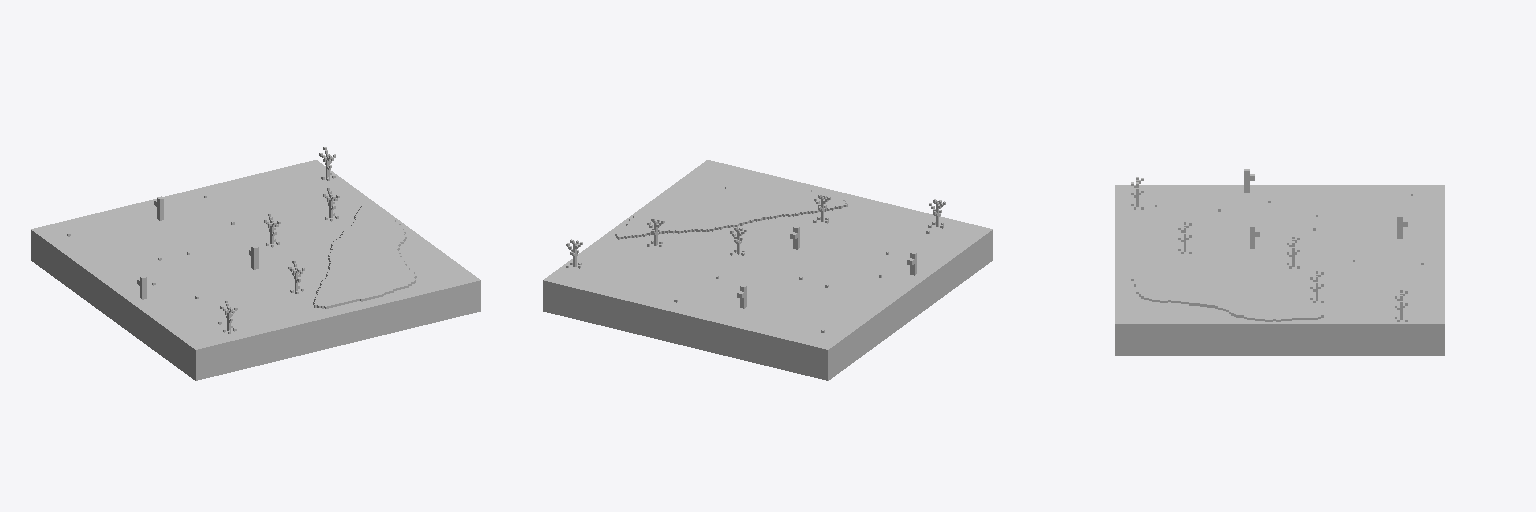
The model's file is Map (28).obj.
The picture shows the model from 3 angles: view 1: azimuth 30°, elevation 25°; view 2: azimuth 150°, elevation 25°; view 3: azimuth 270°, elevation 25°; orthographic projection.
Parts seen in each view (by area): view 1: ALL MAP!!!!!!!!!!!-25; view 2: ALL MAP!!!!!!!!!!!-25; view 3: ALL MAP!!!!!!!!!!!-25.
Boxes of the visible parts, x1,y1,x2,y2 form: ALL MAP!!!!!!!!!!!-25: [31, 147, 480, 380]; ALL MAP!!!!!!!!!!!-25: [543, 160, 992, 380]; ALL MAP!!!!!!!!!!!-25: [1115, 169, 1444, 355].
Size of the model in its own units: 125 by 25 by 125.